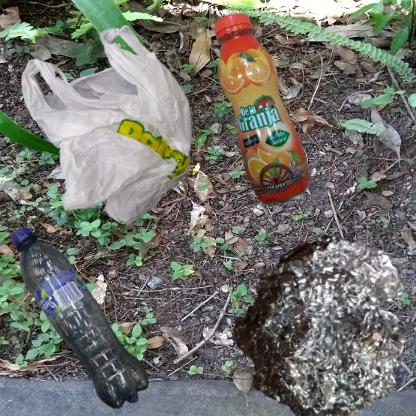aluminio: (213, 213, 416, 416)
bolsa: (10, 10, 242, 269)
botella: (10, 213, 159, 416), (213, 10, 314, 213)
